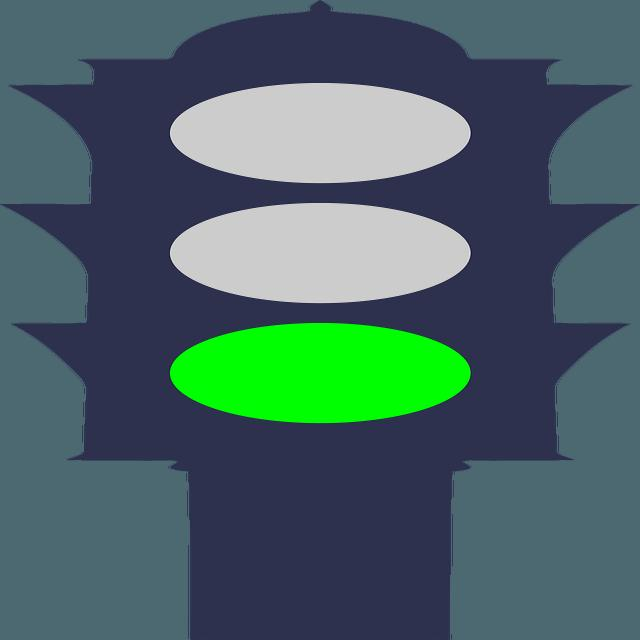green: (158, 318, 488, 428)
